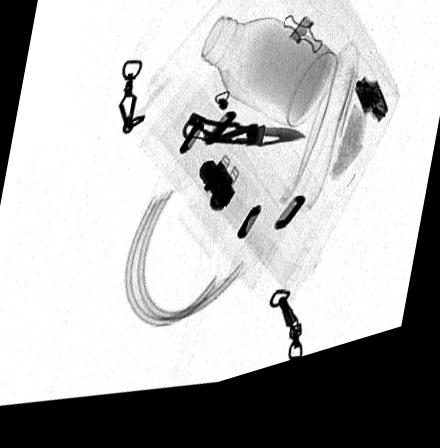Knife: (181, 121, 307, 162)
